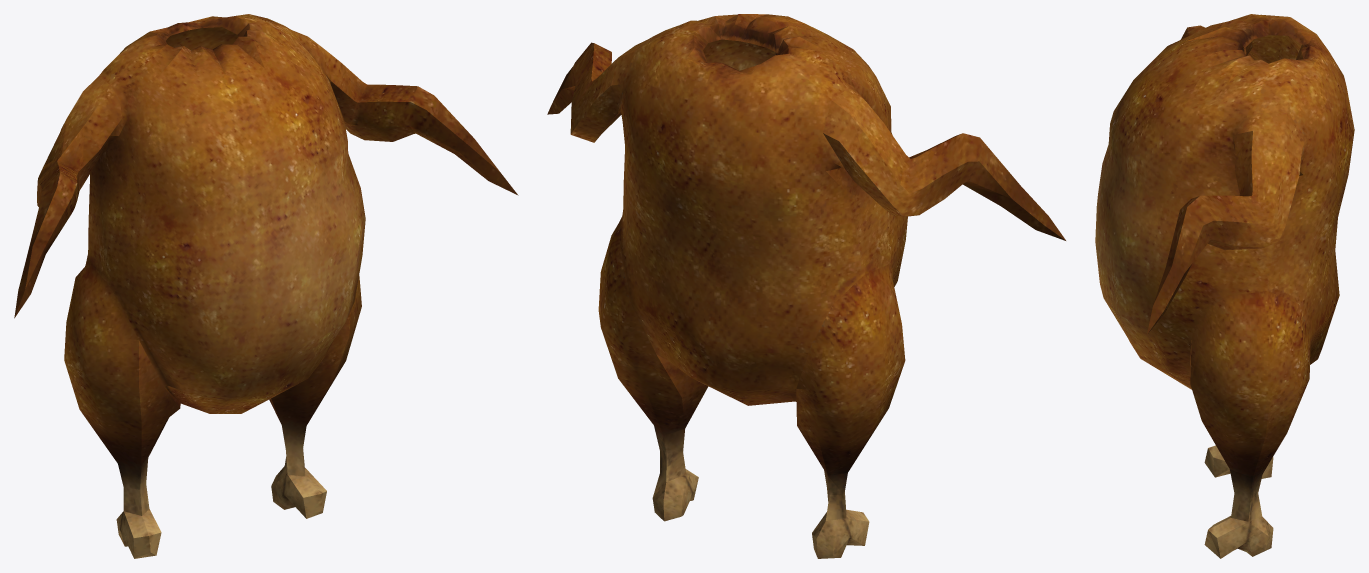
File: chicken_suit.glb
3 renders of one model, left to right at view 1: azimuth 30°, elevation 25°; view 2: azimuth 150°, elevation 25°; view 3: azimuth 270°, elevation 25°, orthographic. The views are drawn at different scales.
Parts seen in each view (by area): view 1: Object_2; view 2: Object_2; view 3: Object_2.
Boxes of the visible parts, box(x1,y1,x2,y2) form: Object_2: box(14, 14, 518, 558); Object_2: box(547, 14, 1065, 558); Object_2: box(1095, 14, 1354, 558).
Bounding box in the file's own units: 2.41 × 2.24 × 1.1.
Materials: 1 (1 with a texture image).
